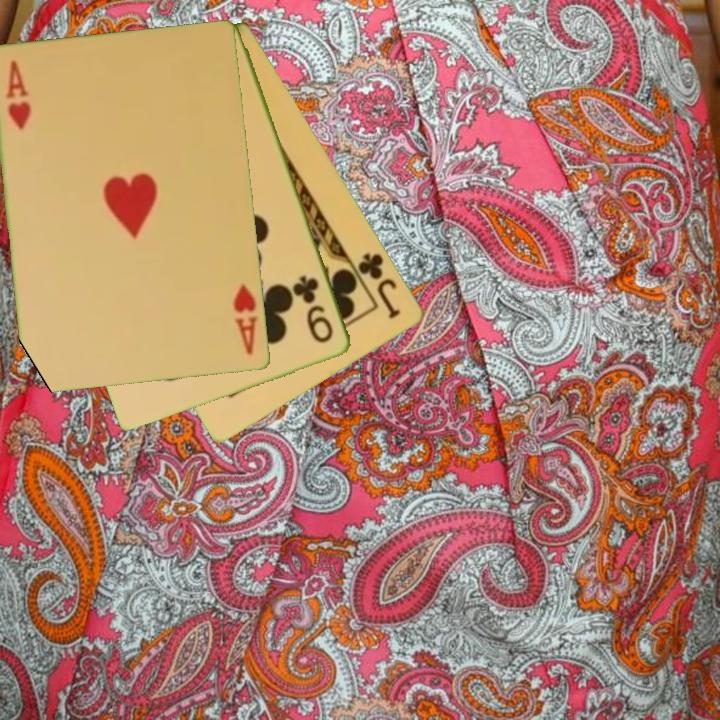9c: (292, 272, 337, 347)
Ah: (2, 57, 34, 132), (230, 281, 261, 358)
Jc: (354, 249, 405, 322)
